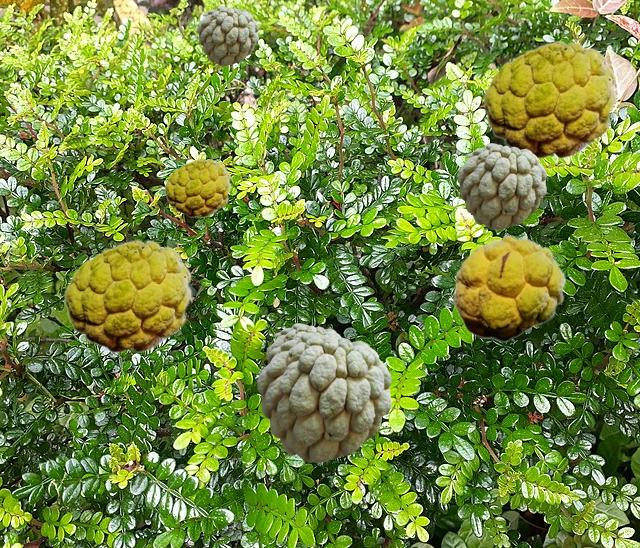atis: (257, 332, 390, 461), (482, 40, 616, 158), (63, 239, 191, 352), (452, 234, 565, 341), (457, 143, 545, 228), (164, 158, 230, 216), (197, 6, 257, 64), (266, 323, 341, 362)
